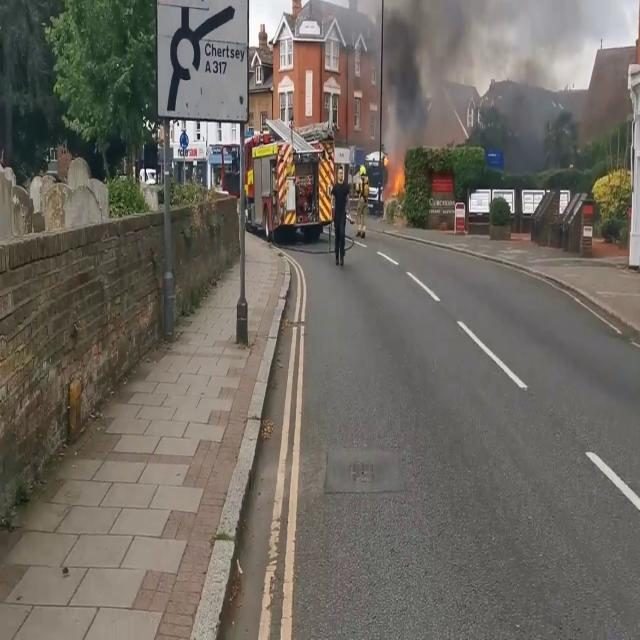Fire: (384, 151, 406, 202)
Smoke: (380, 0, 582, 150)
